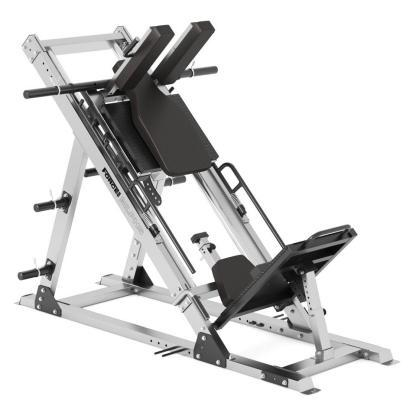leg press: (10, 14, 404, 401)
